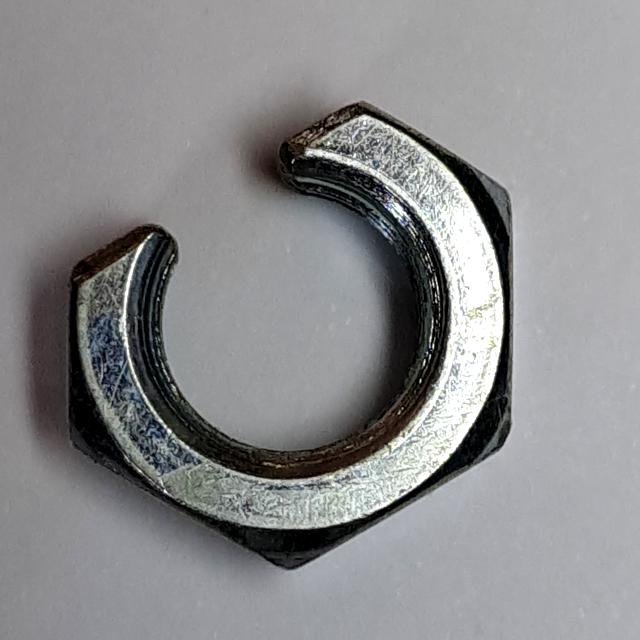Fracture: (55, 85, 527, 584)
